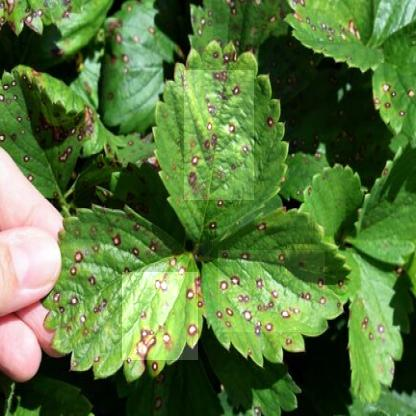black-spot: (184, 70, 254, 200), (218, 250, 325, 332), (122, 272, 198, 360)
